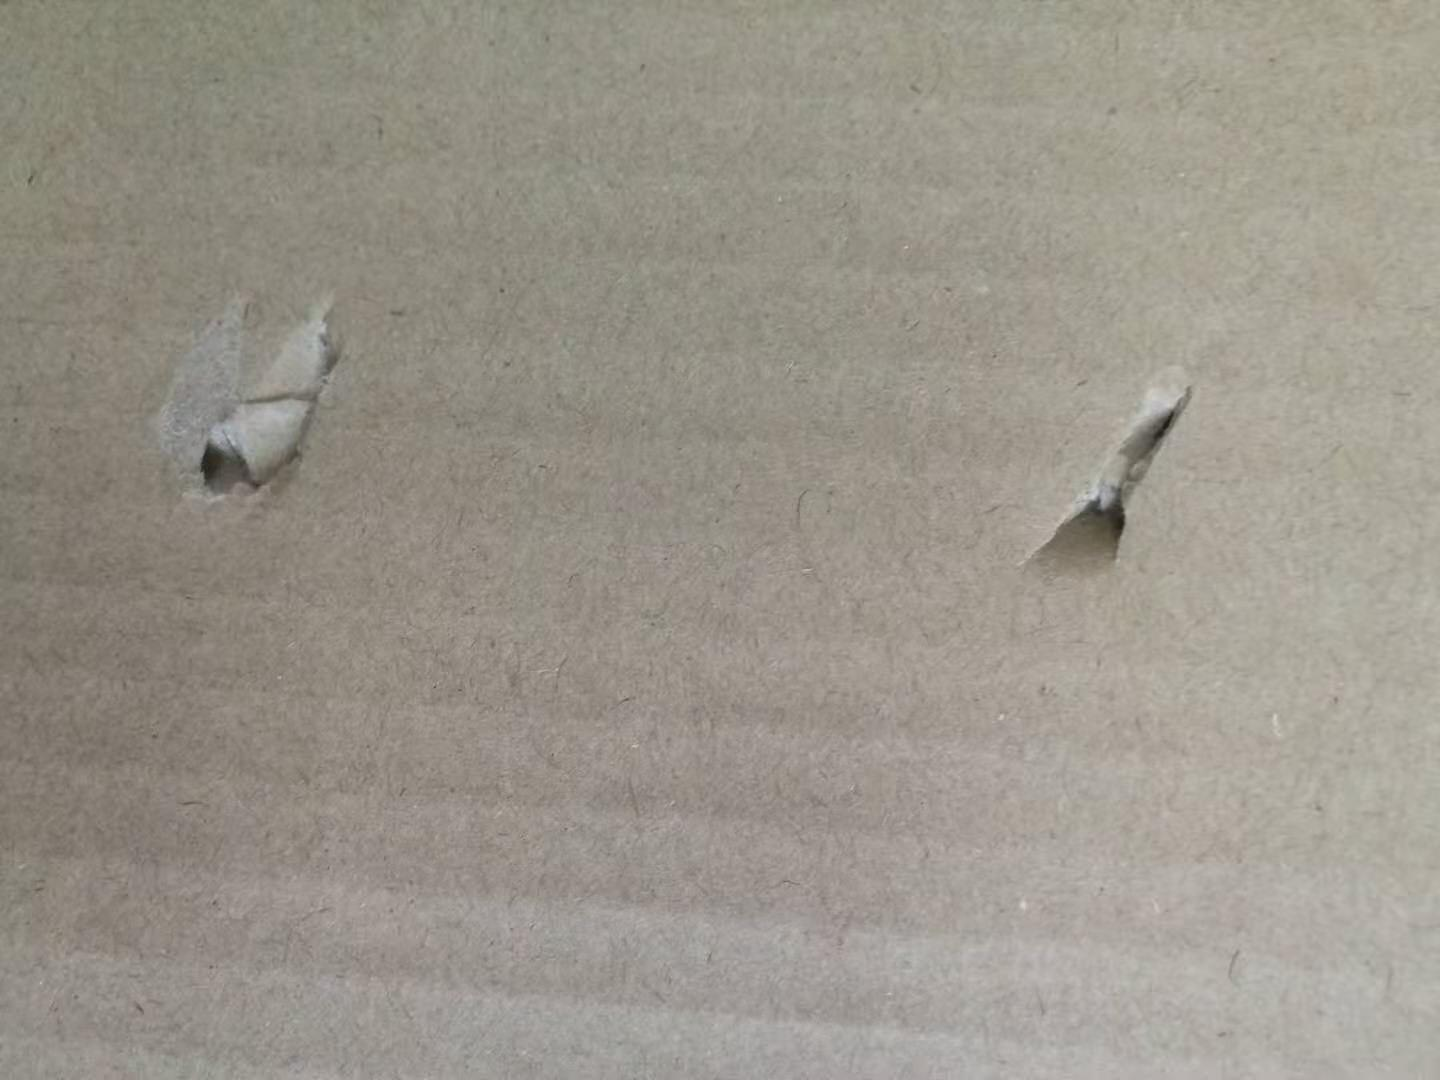defect: (122, 265, 383, 535), (1001, 351, 1225, 602)
